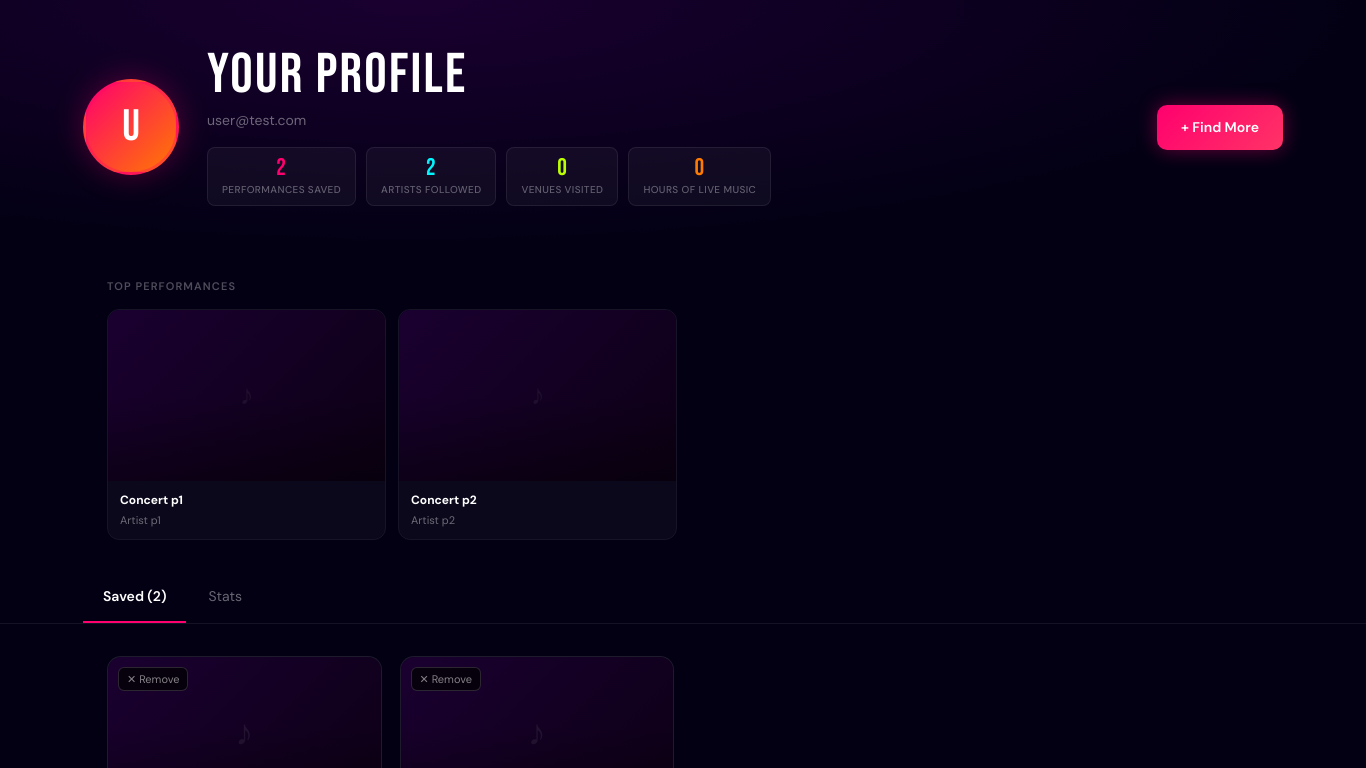
ProfilePage › (f) stats tab renders platform breakdown when saved list is non-empty
Expected: the text "Concert p1" is shown, [120,492,183,508]
Click the button "Stats": (225, 597) [188,572,262,623]
(page scrolled)
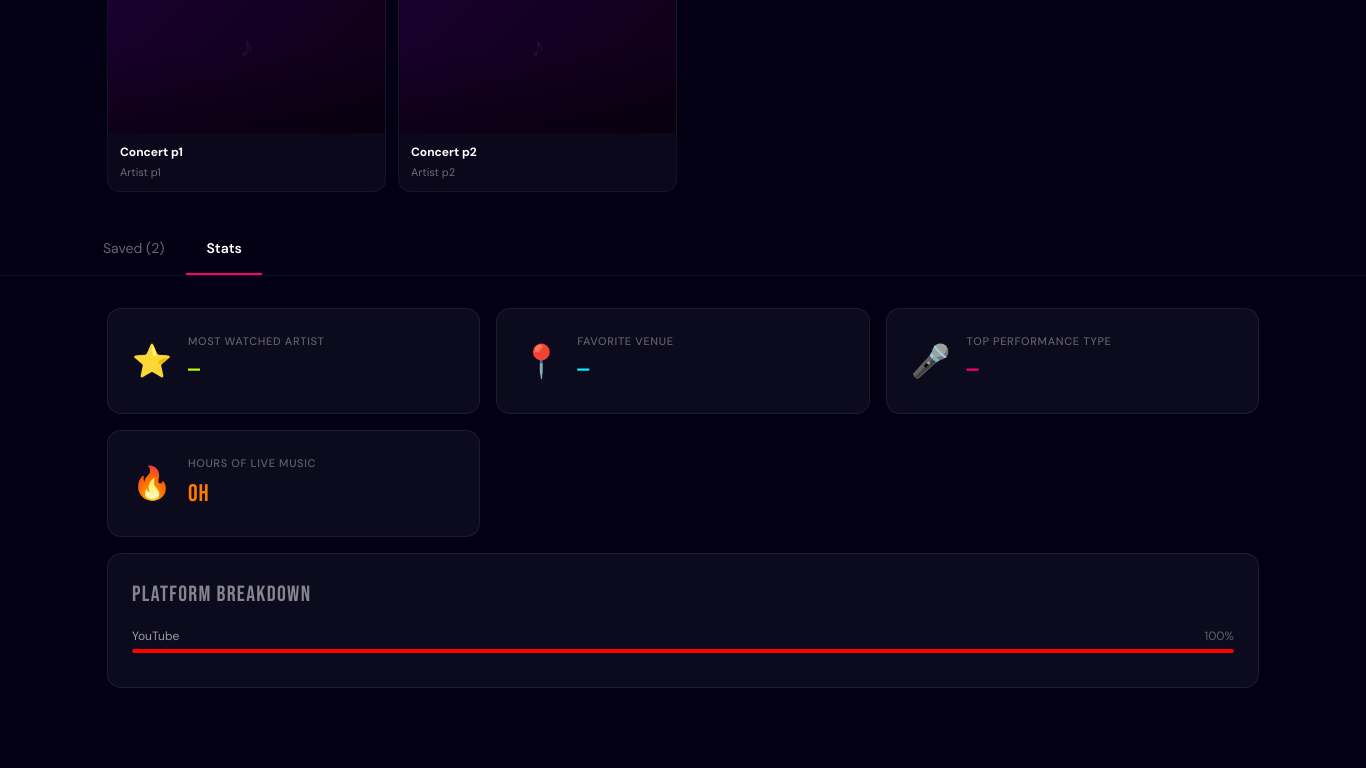
Result: the text "PLATFORM BREAKDOWN" is shown at [132,581,311,608]
Result: the text "YouTube" is shown at [132,627,179,645]
